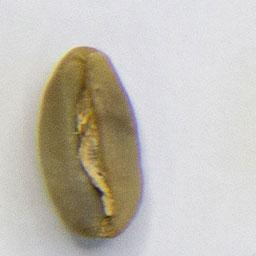longberry: (34, 41, 148, 243)
